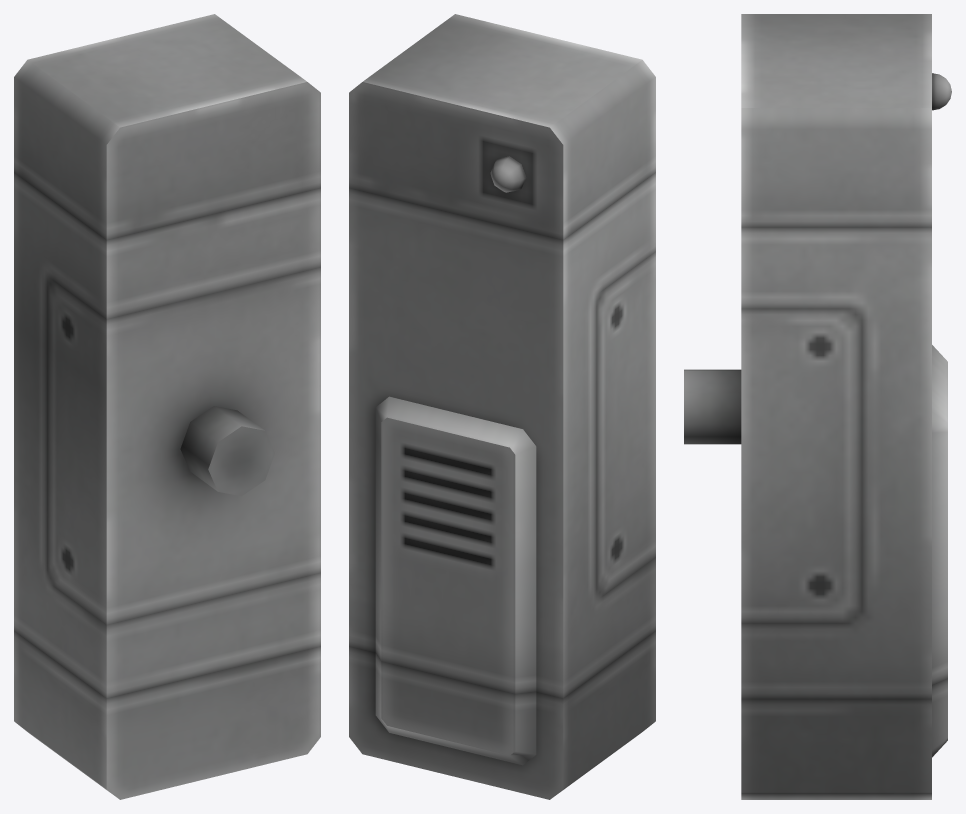
Rendered from Ara_GooExperiment_1.obj.
3 views of the same model, side by side, from view 1: azimuth 30°, elevation 25°; view 2: azimuth 150°, elevation 25°; view 3: azimuth 270°, elevation 25° (orthographic). The views are drawn at different scales.
Parts seen in each view (by area): view 1: Ara_GooExperiment_1; view 2: Ara_GooExperiment_1, Ara_GooExperiment_1_Light; view 3: Ara_GooExperiment_1, Ara_GooExperiment_1_Light.
Boxes of the visible parts, <box> form: Ara_GooExperiment_1: <box>14,14,320,799</box>; Ara_GooExperiment_1: <box>349,14,655,799</box>; Ara_GooExperiment_1_Light: <box>490,156,526,192</box>; Ara_GooExperiment_1: <box>684,14,947,799</box>; Ara_GooExperiment_1_Light: <box>932,73,951,110</box>.
Size of the model in its own units: 0.2 by 0.6 by 0.2106.
